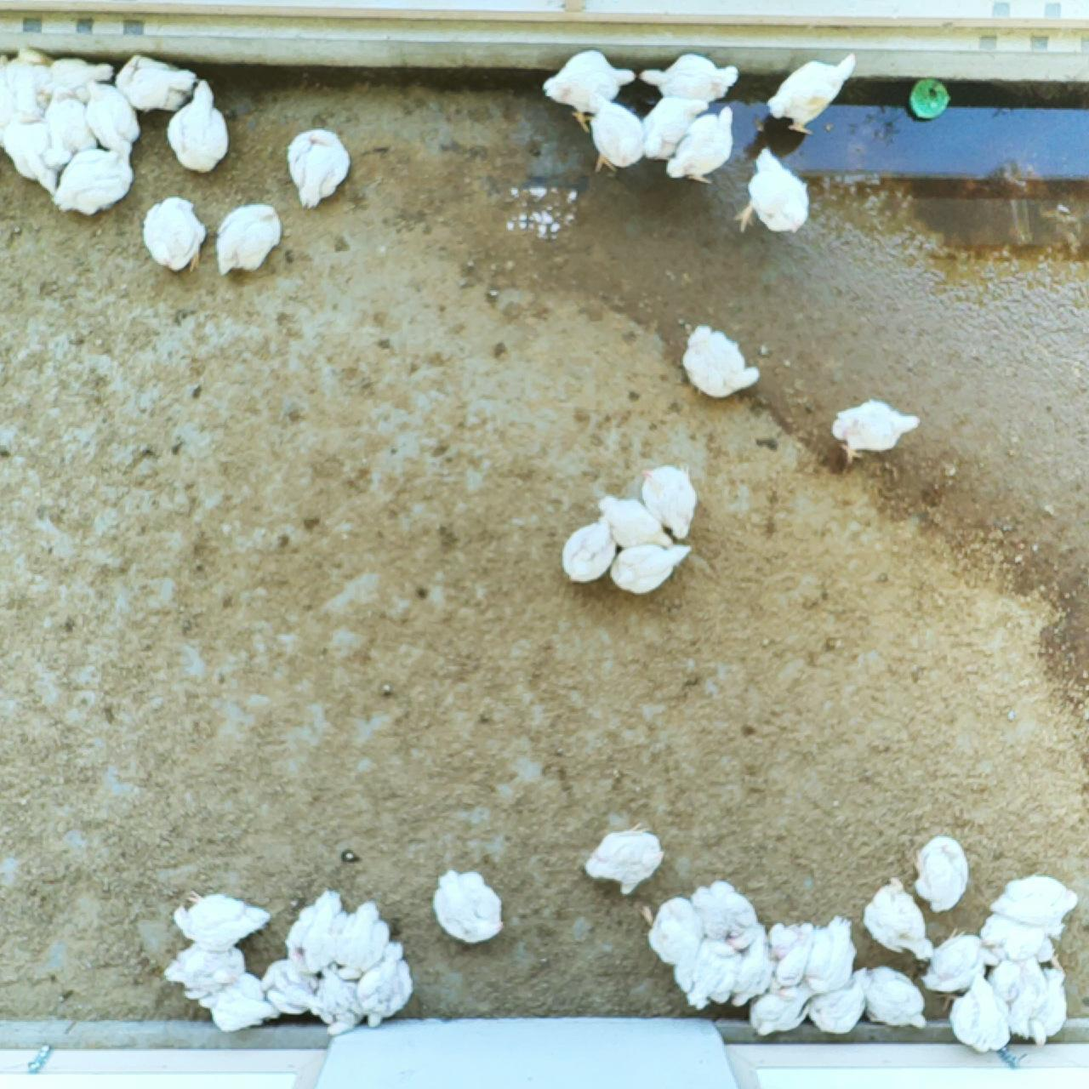chicken: (773, 53, 857, 137), (538, 48, 632, 123), (739, 145, 810, 241), (164, 83, 230, 174), (683, 324, 758, 402), (833, 402, 920, 468), (640, 51, 739, 107), (54, 146, 133, 216), (867, 882, 932, 962), (173, 896, 271, 949), (584, 829, 664, 893), (434, 873, 504, 944), (215, 200, 281, 275), (1009, 970, 1071, 1048), (114, 55, 195, 114), (346, 949, 414, 1019), (991, 878, 1078, 932), (909, 836, 969, 913), (288, 131, 347, 209), (984, 906, 1058, 968), (287, 894, 351, 965), (952, 978, 1009, 1057), (856, 965, 927, 1027), (592, 99, 645, 182), (145, 202, 205, 275), (801, 916, 852, 1001), (641, 465, 698, 539), (599, 494, 671, 552), (641, 898, 701, 967), (646, 95, 704, 165), (162, 946, 246, 994), (722, 931, 774, 1006), (929, 932, 985, 1001), (993, 951, 1042, 1029), (334, 905, 391, 972), (612, 540, 687, 590), (87, 85, 140, 155), (675, 944, 733, 1006), (688, 885, 752, 940), (316, 966, 367, 1033), (747, 984, 814, 1035), (210, 981, 277, 1030), (773, 925, 812, 1008), (44, 62, 122, 103), (562, 525, 615, 582), (807, 978, 862, 1031), (1, 51, 46, 113), (263, 960, 322, 1006), (50, 99, 88, 160)
